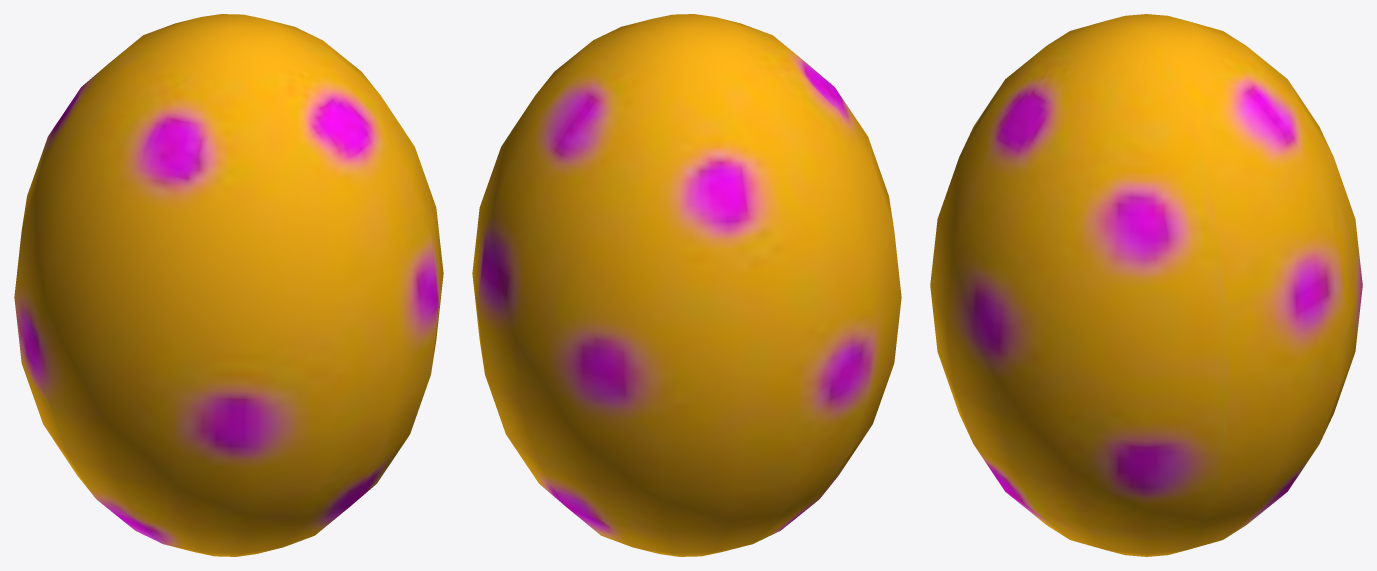
The model's file is egg_01.fbx.
3 renders of one model, left to right at view 1: azimuth 30°, elevation 25°; view 2: azimuth 150°, elevation 25°; view 3: azimuth 270°, elevation 25°, orthographic.
Parts seen in each view (by area): view 1: egg_01; view 2: egg_01; view 3: egg_01.
Boxes of the visible parts, box(x1,y1,x2,y2) form: egg_01: box(14, 14, 443, 556); egg_01: box(472, 14, 901, 556); egg_01: box(930, 14, 1362, 556).
Bounding box in the file's own units: 9.95 × 13.02 × 9.95.
